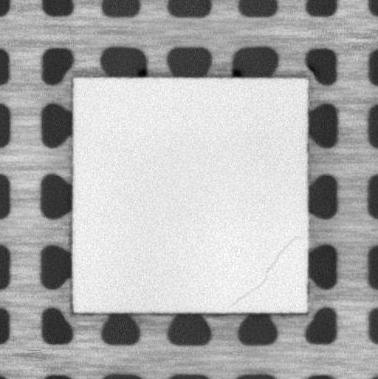DIE_CRACK: (232, 235, 298, 303)
